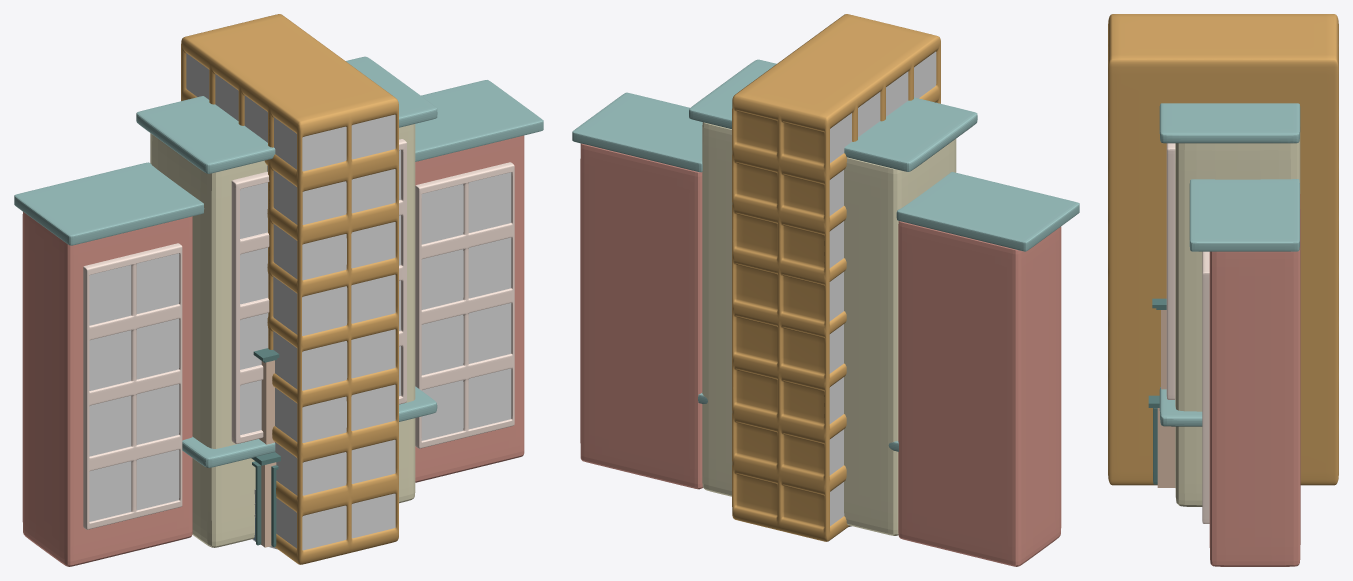
File: morden_3.fbx
3 renders of one model, left to right at view 1: azimuth 30°, elevation 25°; view 2: azimuth 150°, elevation 25°; view 3: azimuth 270°, elevation 25°, orthographic. The views are drawn at different scales.
Visible parts, largest first — view 1: 立方体.025, 立方体.017, 平面.015, 平面.016, 立方体; view 2: 立方体.025, 立方体.017, 平面.016; view 3: 立方体.025, 立方体.017, 立方体, 立方体.006.
Part boxes in pixels (x1,y1,x2,y2): 立方体.025: [14, 56, 543, 566]; 立方体.017: [181, 14, 398, 564]; 平面.015: [302, 114, 395, 550]; 平面.016: [186, 53, 297, 548]; 立方体: [251, 348, 280, 547]; 立方体.025: [572, 59, 1079, 566]; 立方体.017: [732, 14, 940, 541]; 平面.016: [829, 51, 936, 525]; 立方体.025: [1159, 103, 1300, 566]; 立方体.017: [1108, 14, 1338, 485]; 立方体: [1148, 298, 1175, 487]; 立方体.006: [1153, 408, 1157, 484].
Size of the model in its own units: 1634 by 1542 by 714.
